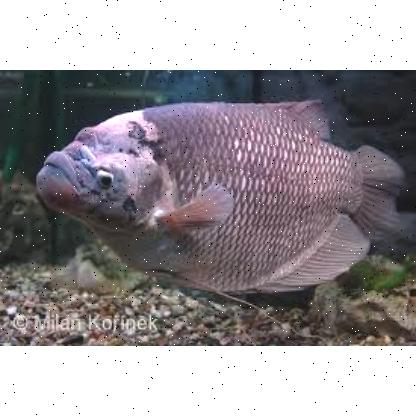gurame: (37, 98, 390, 292)
